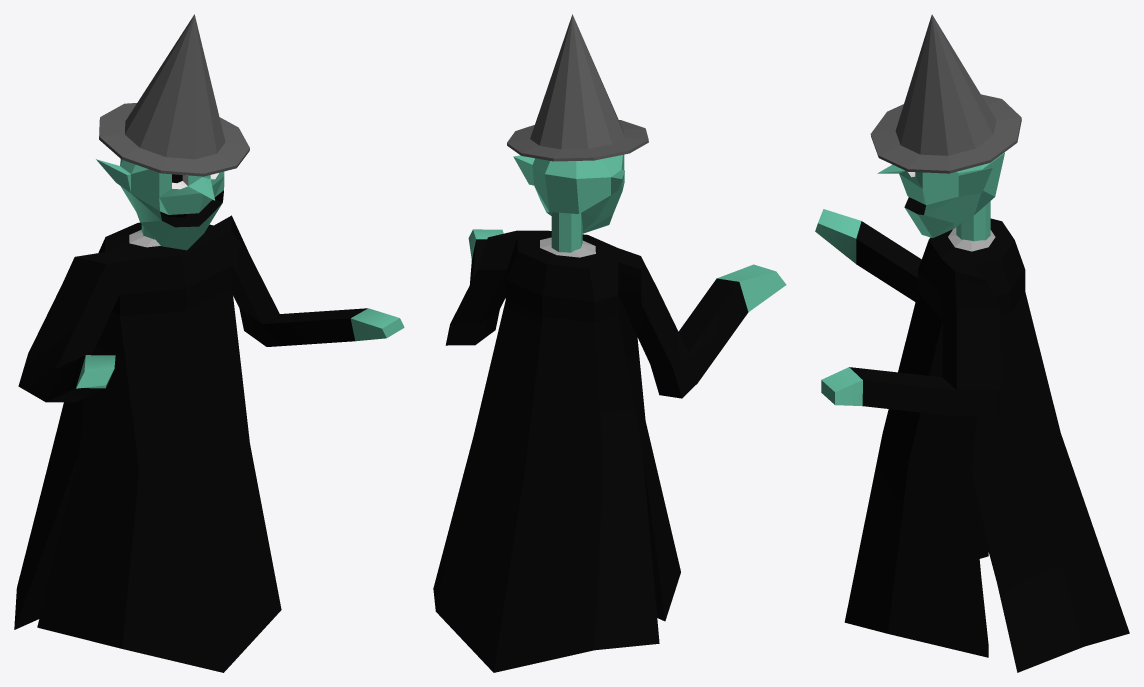
The model's file is Boss.fbx.
3 renders of one model, left to right at view 1: azimuth 30°, elevation 25°; view 2: azimuth 150°, elevation 25°; view 3: azimuth 270°, elevation 25°, orthographic. The views are drawn at different scales.
Parts seen in each view (by area): view 1: pSphere2, pCone1, pSphere1; view 2: pSphere2, pCone1, pSphere1, pCylinder1; view 3: pSphere2, pCone1, pSphere1, pCylinder1.
Boxes of the visible parts, <box> form: pSphere2: <box>14,215,404,672</box>; pCone1: <box>99,14,249,176</box>; pSphere1: <box>96,159,224,250</box>; pSphere2: <box>433,229,786,672</box>; pCone1: <box>507,14,648,161</box>; pSphere1: <box>513,154,624,233</box>; pCylinder1: <box>551,212,582,252</box>; pSphere2: <box>815,209,1129,672</box>; pCone1: <box>870,14,1021,173</box>; pSphere1: <box>877,152,1004,237</box>; pCylinder1: <box>956,201,990,241</box>.
Bounding box in the file's own units: 6.97 × 12.58 × 5.73.
